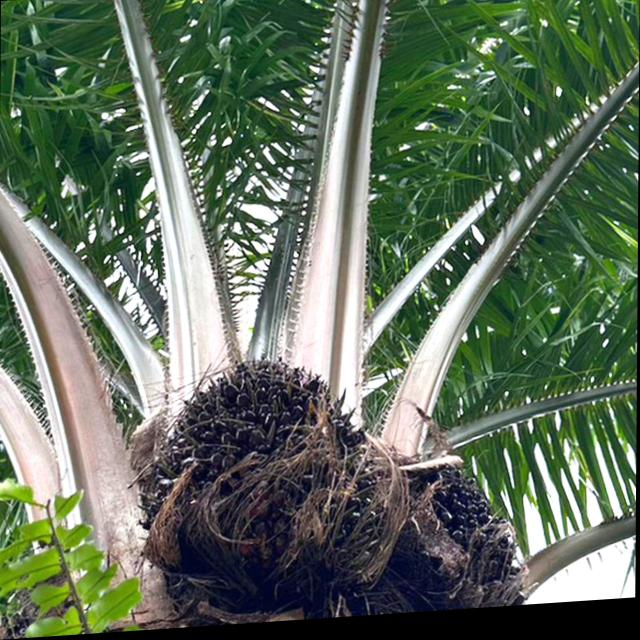almost: (141, 349, 377, 605), (392, 443, 521, 616)
